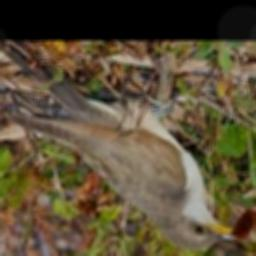Cuckoo: (0, 41, 237, 249)
